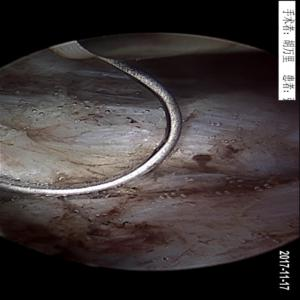film: (71, 149, 281, 253)
